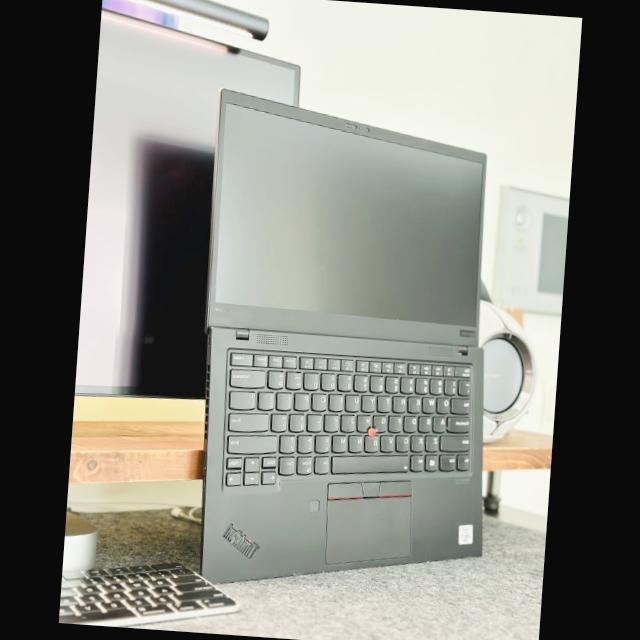laptop: (202, 88, 486, 581)
